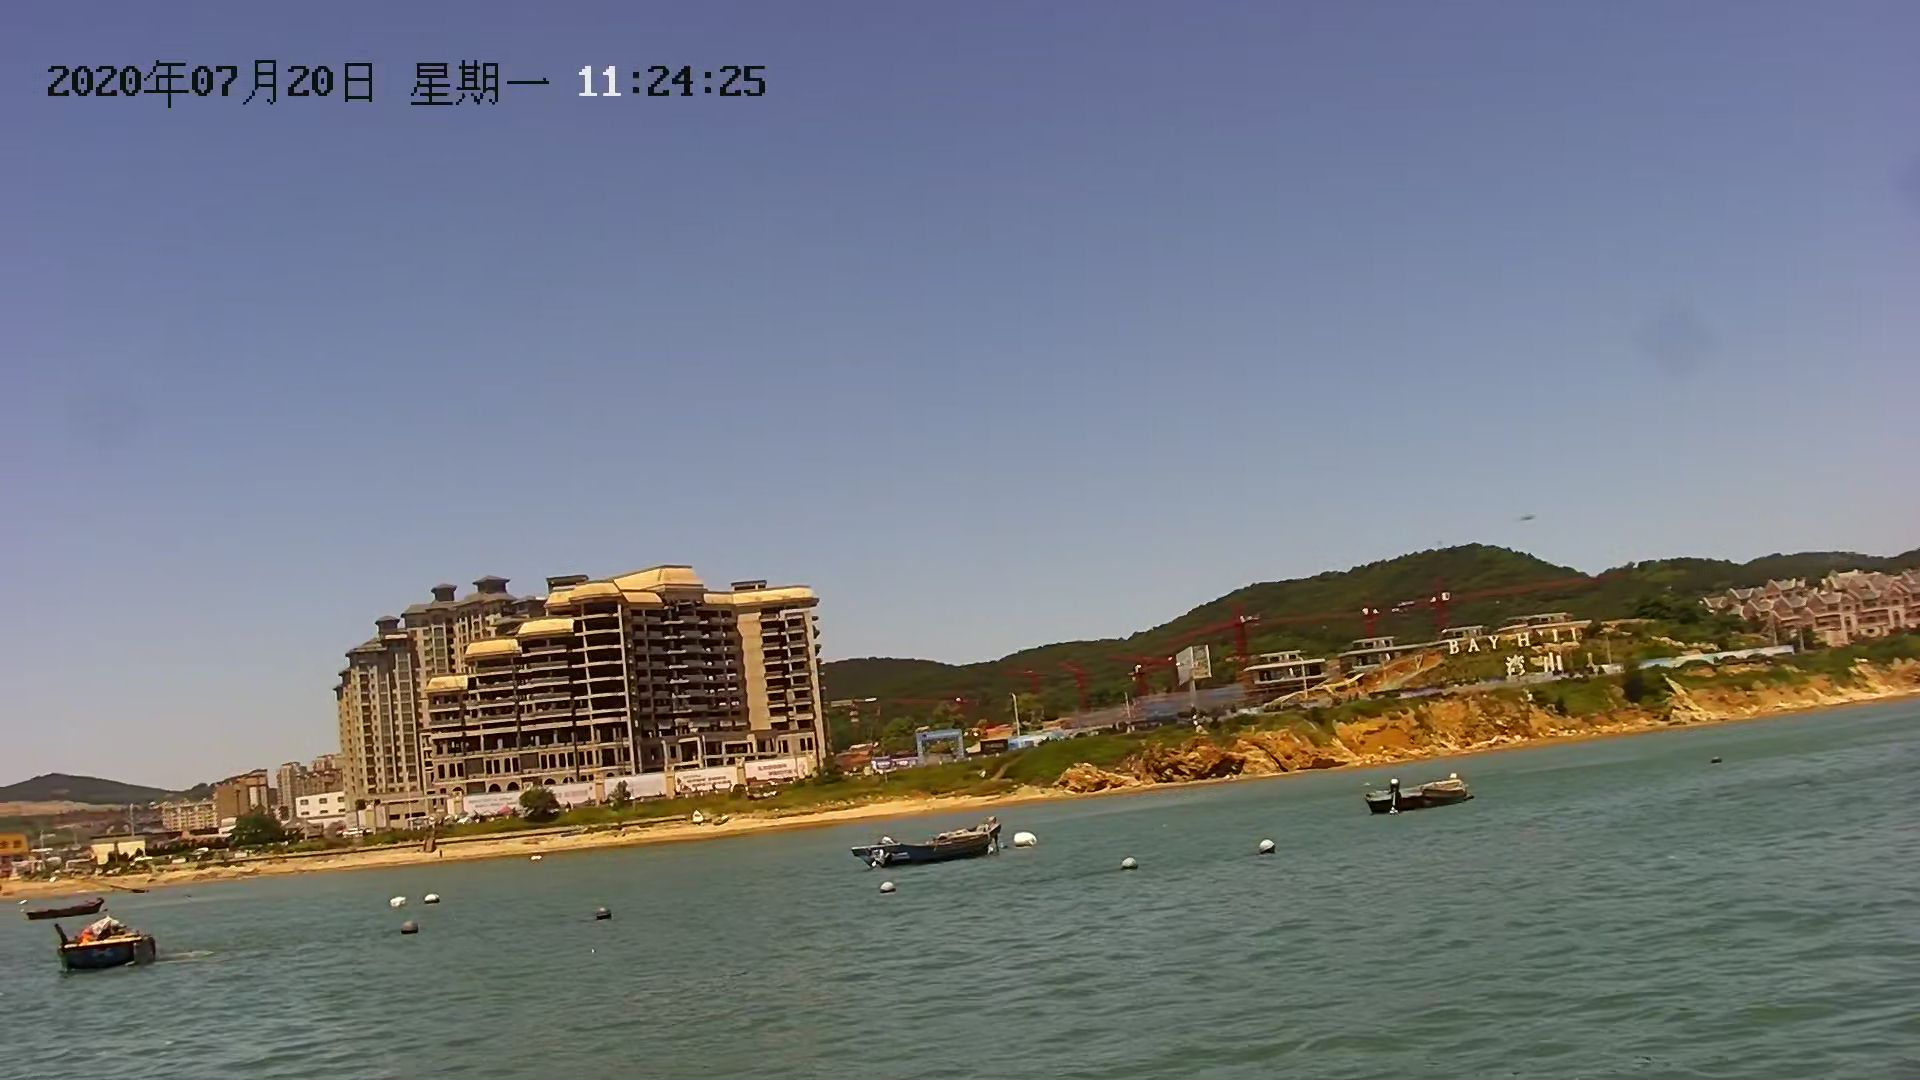ball: (1255, 829, 1288, 861), (1002, 822, 1039, 848), (1112, 856, 1145, 880), (585, 905, 617, 922), (398, 920, 421, 942), (385, 891, 404, 911), (417, 890, 440, 905)
boat: (44, 916, 164, 978), (855, 827, 1021, 862), (1360, 779, 1491, 814)
